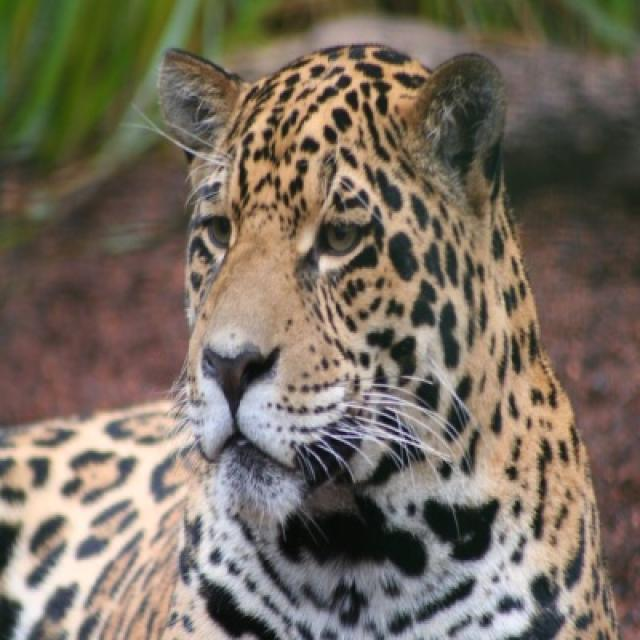Jaguar: (0, 45, 621, 638)
